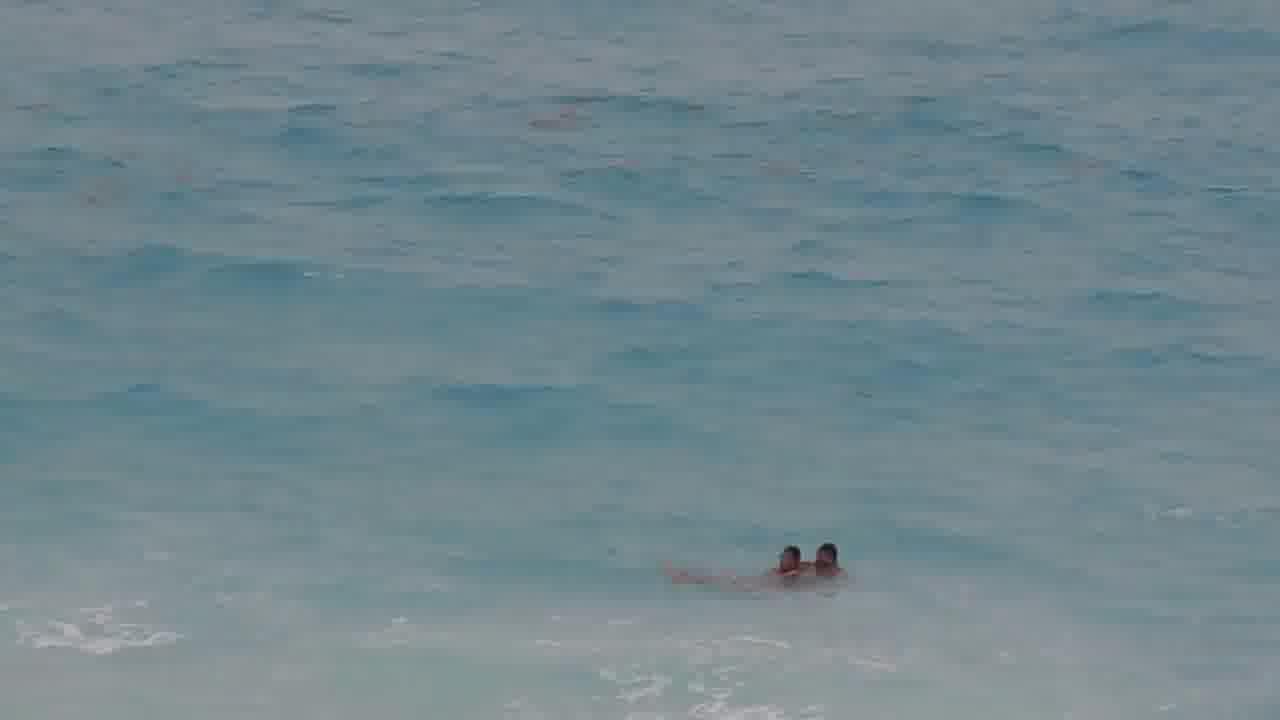swimmer: (803, 518, 852, 582), (770, 527, 796, 571)
